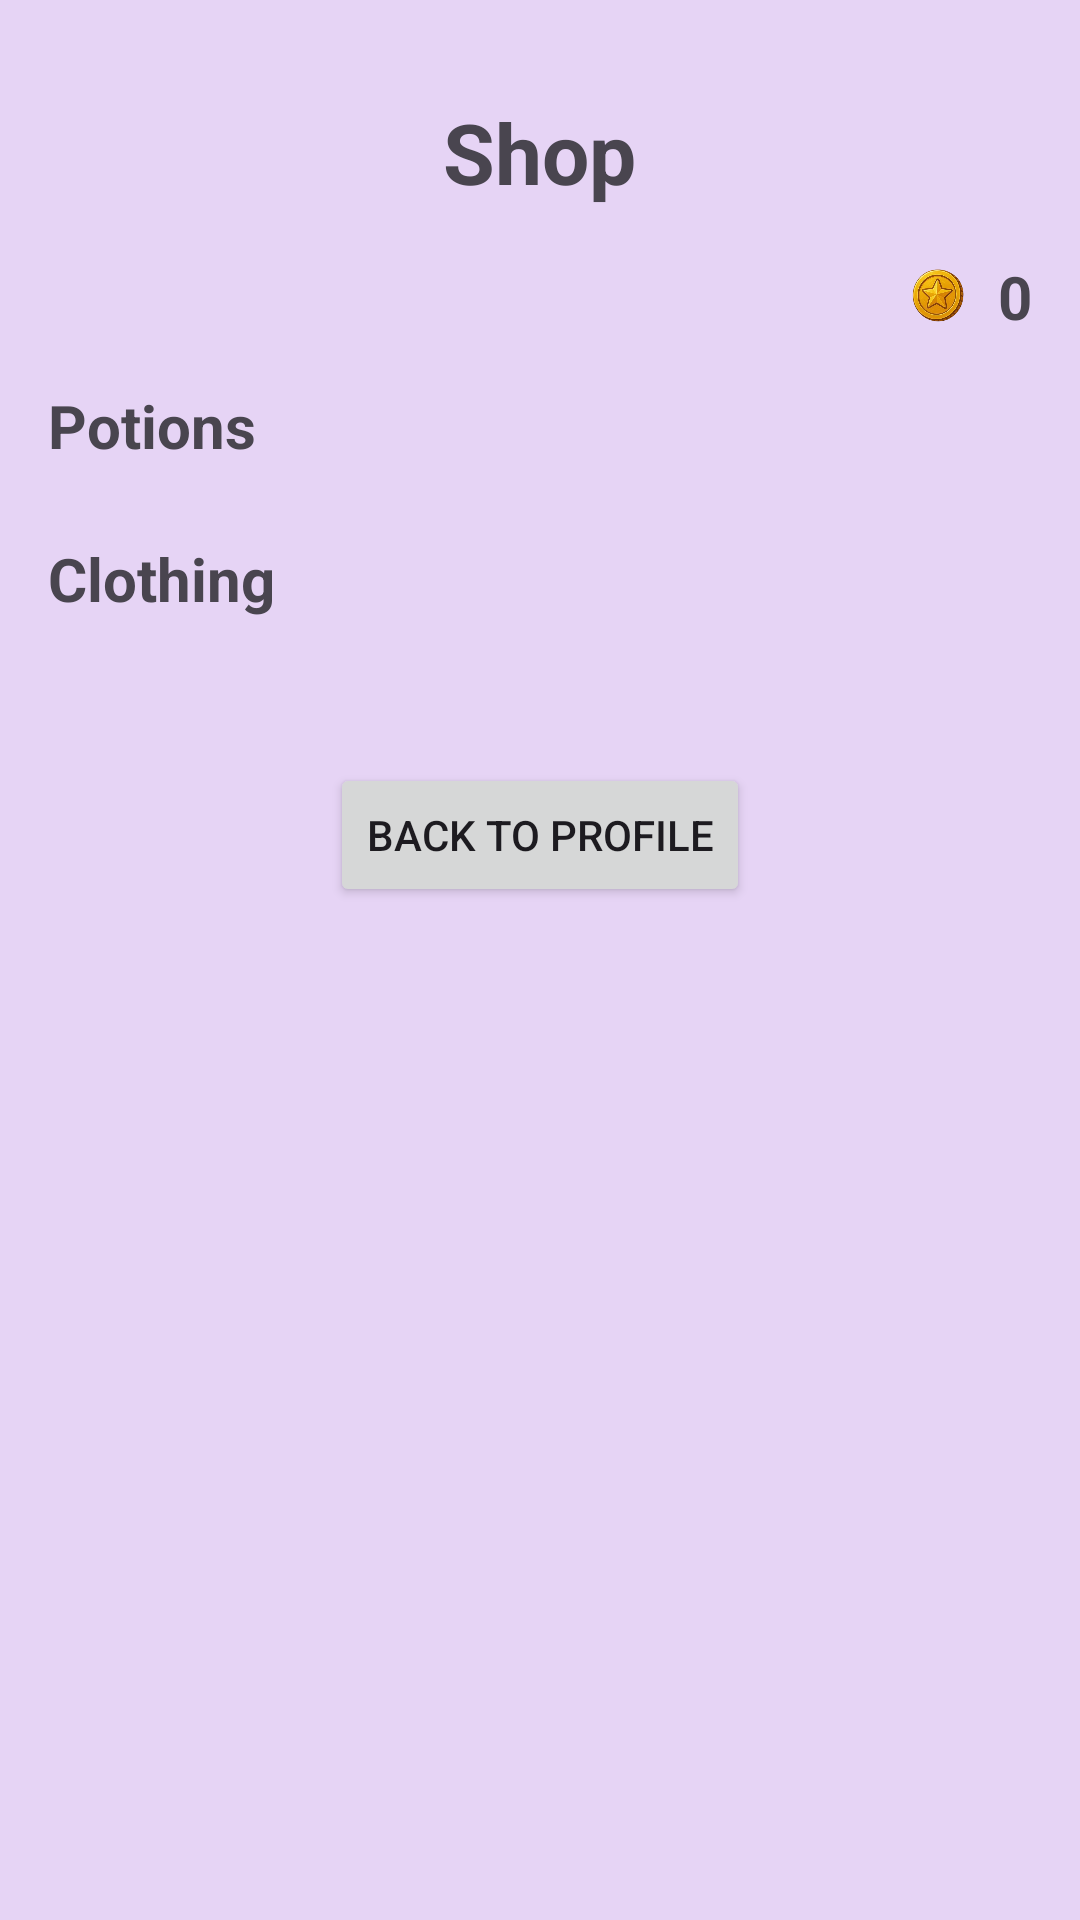

Icon click points for this 1080x1920 phone screenshot, format point (x, y):
coin: point (938, 295)
